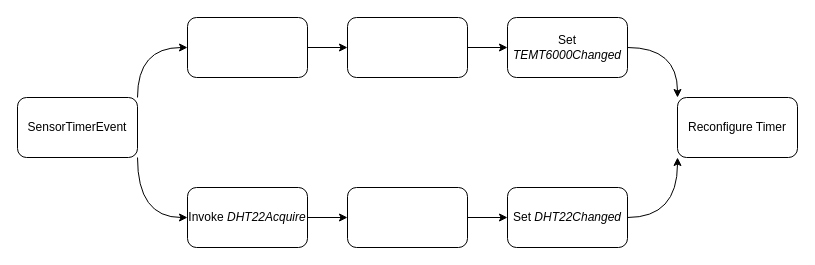
This 815x265 diagram has some shape labels left out. The centre of each missing label's shape, as x and y in pixels:
Invoke TEMT6000Acquire: (x=247, y=47)
Update DTH22Meas: (x=407, y=217)
Update TEMT6000Meas: (x=407, y=47)
